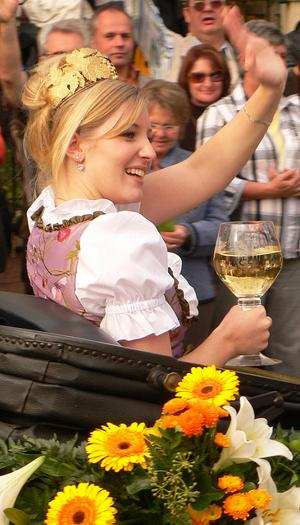person: (26, 7, 288, 366)
